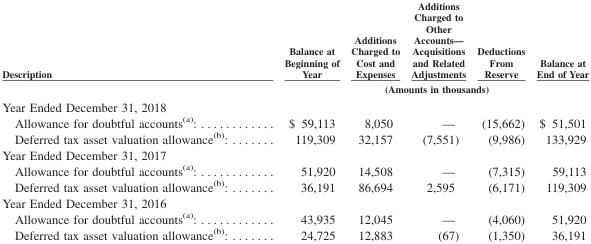table: (1, 1, 588, 241)
table column: (1, 1, 255, 241), (255, 1, 344, 241), (404, 1, 470, 241), (344, 1, 404, 241), (470, 1, 530, 241), (530, 1, 588, 241)
table column header: (1, 1, 588, 97)
table projected row header: (1, 97, 588, 114), (1, 147, 588, 162), (1, 195, 588, 210)
table row: (1, 1, 588, 81), (1, 97, 588, 114), (1, 130, 588, 147), (1, 178, 588, 195), (1, 81, 588, 97), (1, 114, 588, 130), (1, 162, 588, 178), (1, 210, 588, 226), (1, 147, 588, 162), (1, 195, 588, 210), (1, 226, 588, 241)
table spanning cell: (1, 1, 255, 97), (255, 81, 588, 97)
